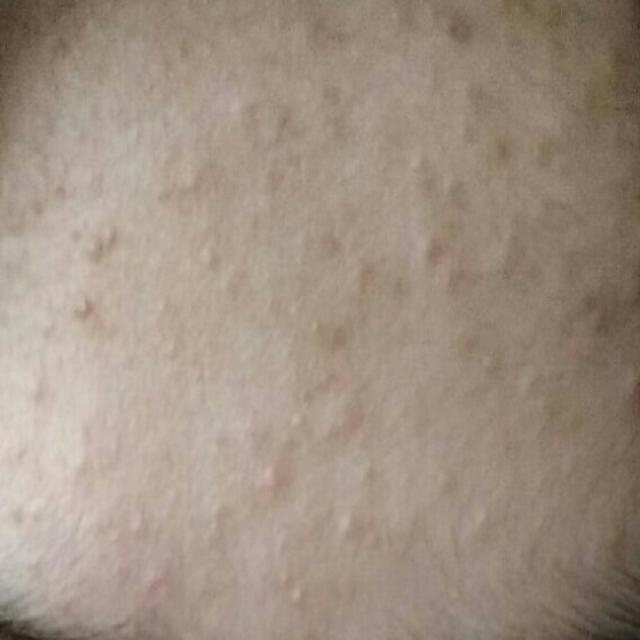fungal: (2, 72, 628, 619)
